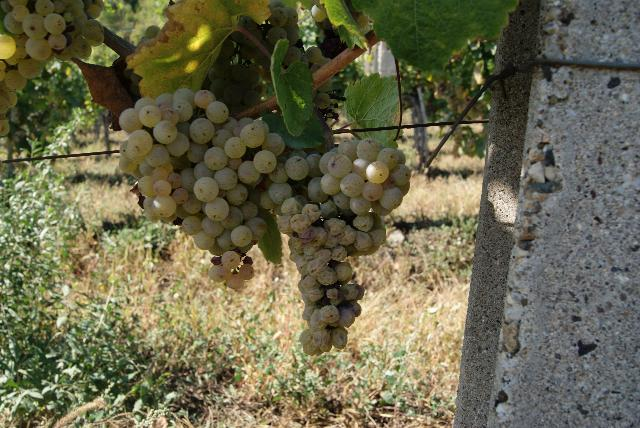grapes: (119, 88, 292, 289), (276, 140, 408, 355), (126, 0, 271, 96)
